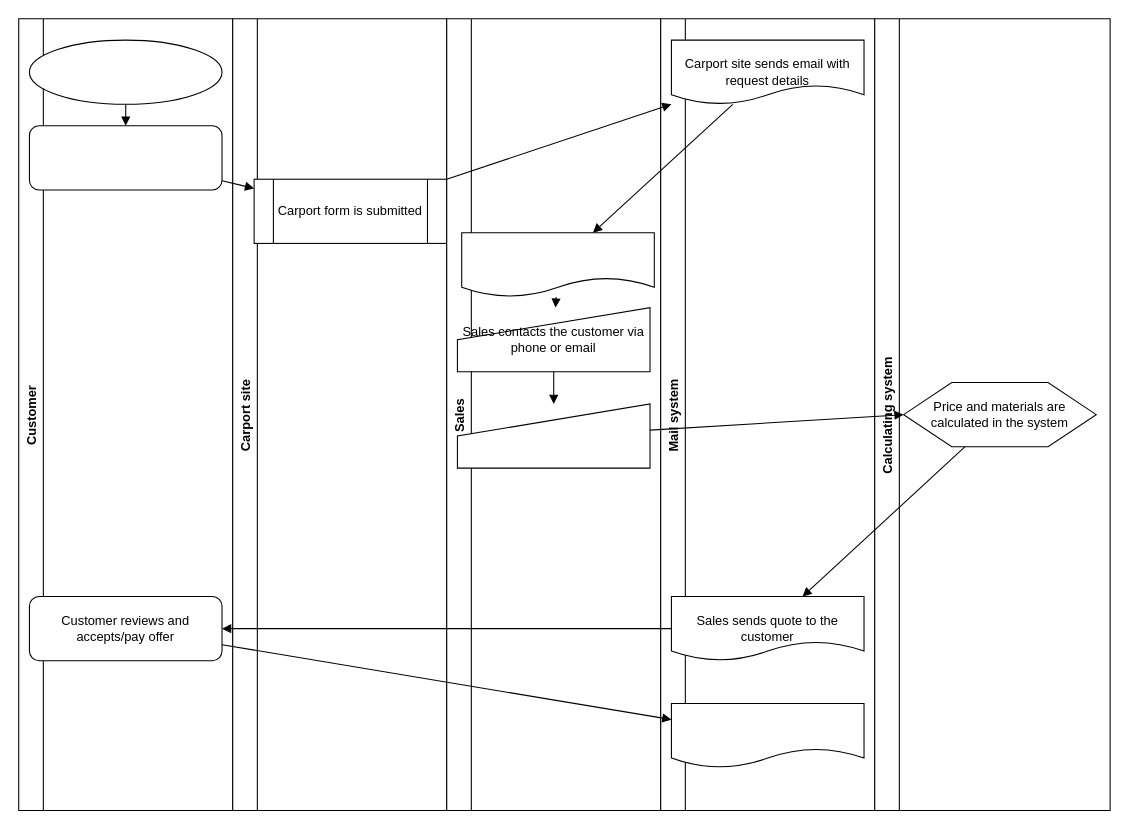
Some shapes in this 1129 by 829 pixel diagram are drawn without their labels. Each missing label, with the centre of its shape:
Customer fills out the carport form: the point at 125,157
Customer visits the carport site: the point at 125,71
Sales manually re-enters dimensions into internal system: the point at 553,435
Sales receives the email: the point at 557,264
System sends email with stykliste and guide: the point at 767,735
